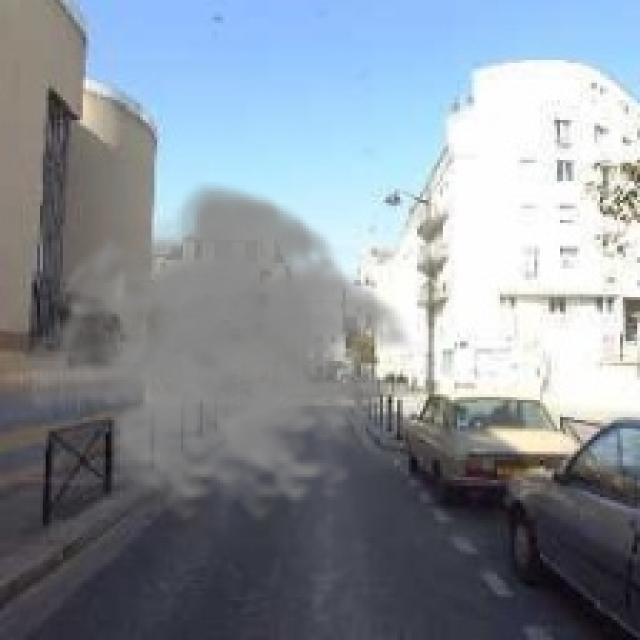Smoke: (14, 180, 426, 523)
